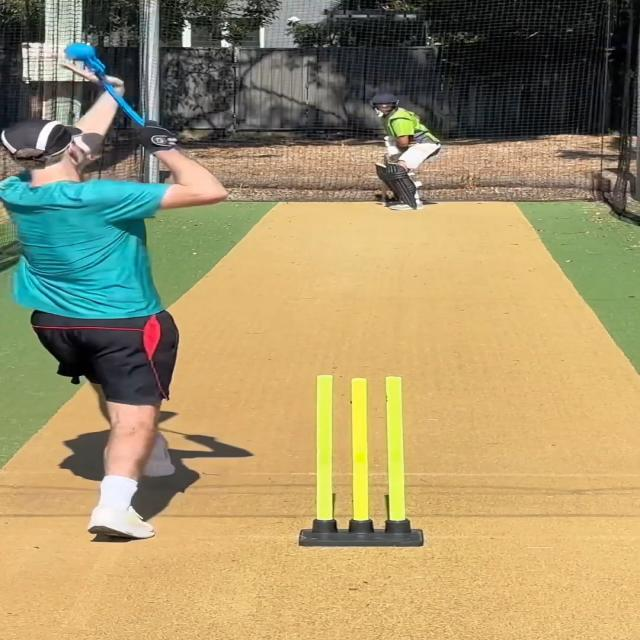stump: (300, 366, 424, 550)
